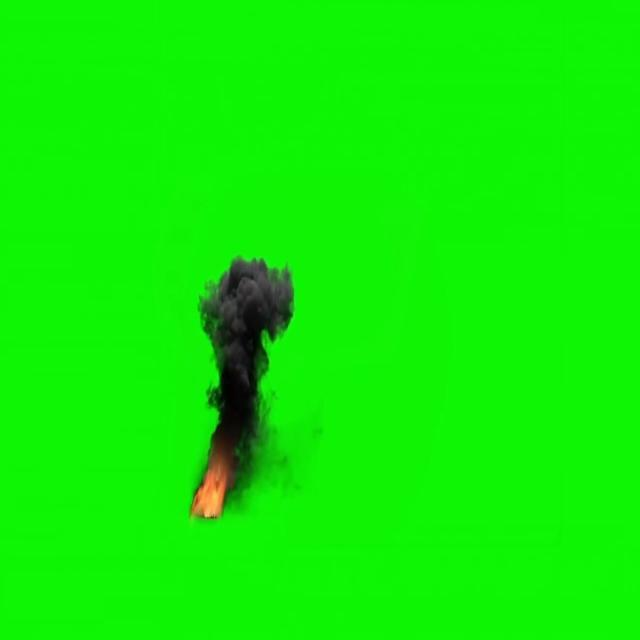Fire: (190, 458, 230, 524)
Smoke: (204, 256, 297, 434)
